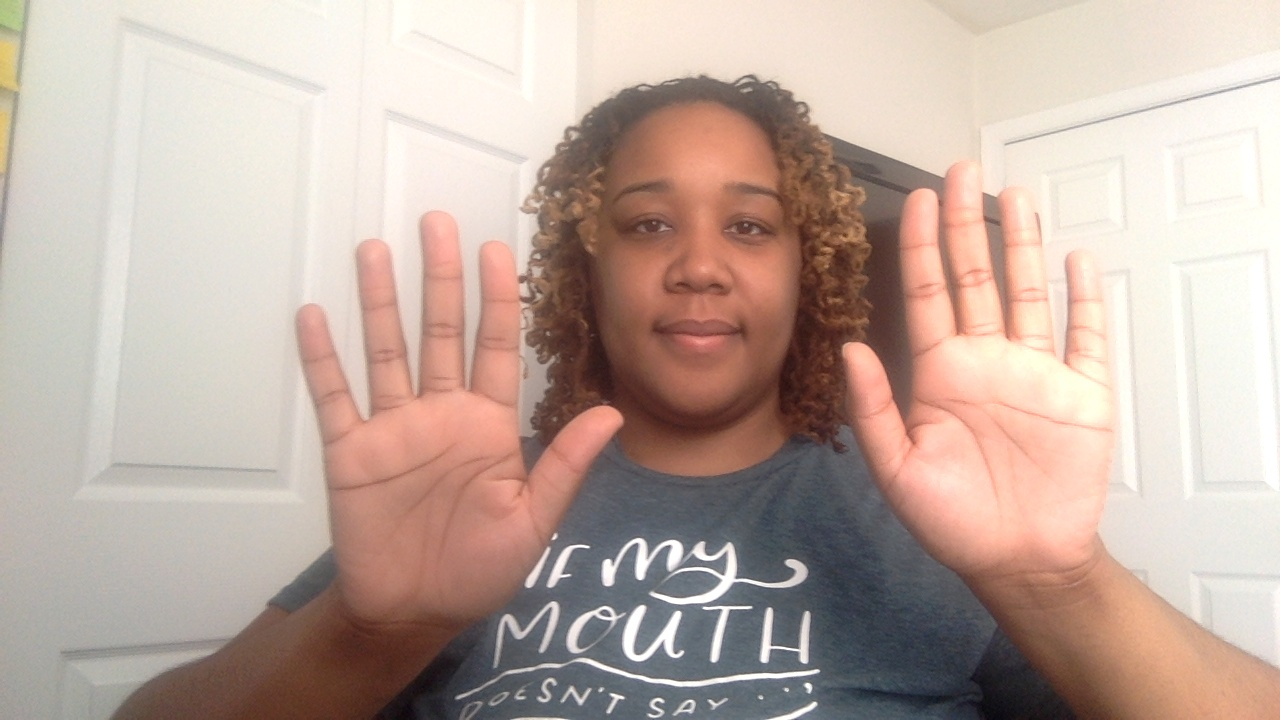great: (289, 73, 1156, 626)
